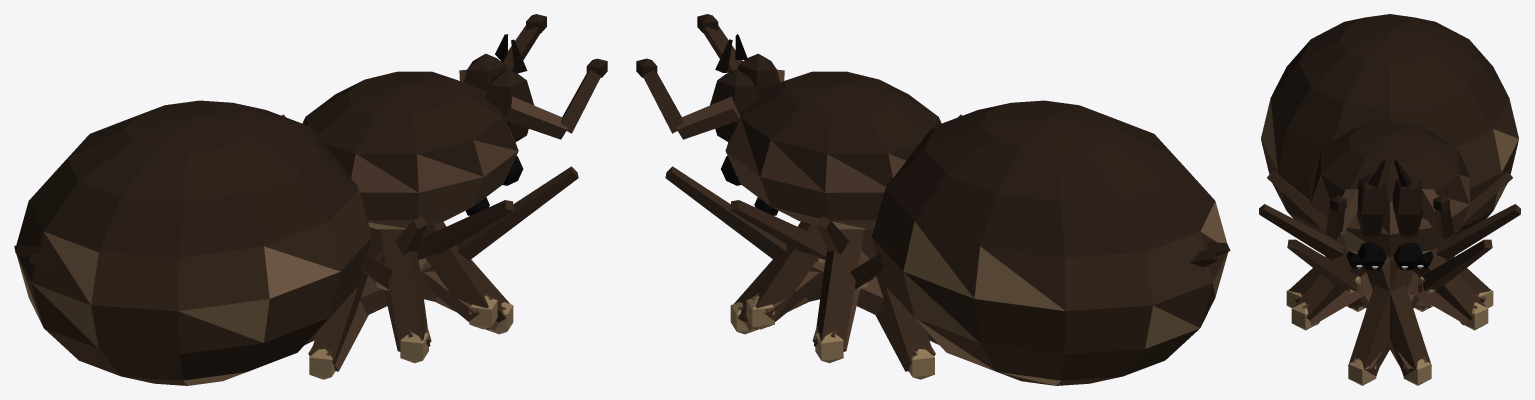
Rendered from creatures-wolf-spider-dead.glb.
3 views of the same model, side by side, from view 1: azimuth 30°, elevation 25°; view 2: azimuth 150°, elevation 25°; view 3: azimuth 270°, elevation 25° (orthographic). The views are drawn at different scales.
Size of the model in its own units: 25.35 by 12.15 by 12.17.
